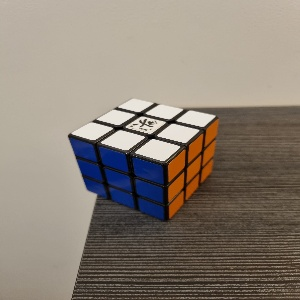cube: (68, 97, 221, 223)
